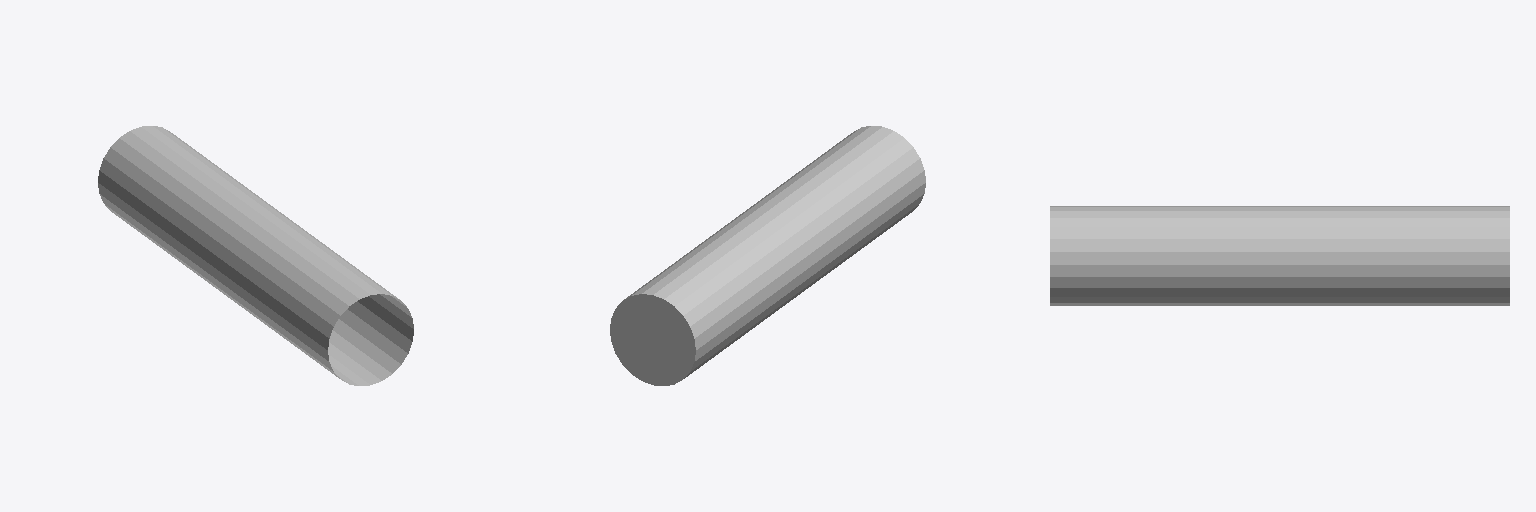
Rendered from original-3.obj.
The picture shows the model from 3 angles: view 1: azimuth 30°, elevation 25°; view 2: azimuth 150°, elevation 25°; view 3: azimuth 270°, elevation 25°; orthographic projection.
Parts seen in each view (by area): view 1: 3dw.228b41e91b3eac5e6eed87081bea555c/Model/Group1/mesh1/mesh1-ge; view 2: 3dw.228b41e91b3eac5e6eed87081bea555c/Model/Group1/mesh1/mesh1-ge; view 3: 3dw.228b41e91b3eac5e6eed87081bea555c/Model/Group1/mesh1/mesh1-ge.
Part boxes in pixels (x1,y1,x2,y2): 3dw.228b41e91b3eac5e6eed87081bea555c/Model/Group1/mesh1/mesh1-ge: (98, 126, 413, 385); 3dw.228b41e91b3eac5e6eed87081bea555c/Model/Group1/mesh1/mesh1-ge: (610, 126, 925, 385); 3dw.228b41e91b3eac5e6eed87081bea555c/Model/Group1/mesh1/mesh1-ge: (1050, 206, 1509, 305).
Size of the model in its own units: 0.1338 by 0.1338 by 0.6189.